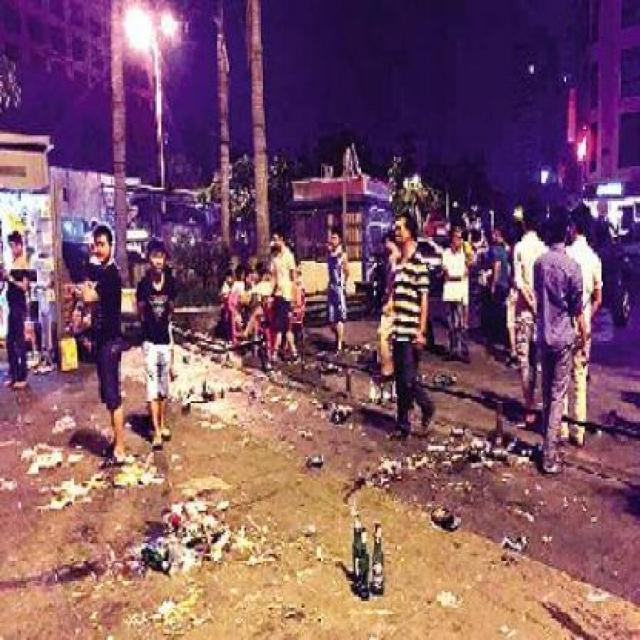garbage: (65, 468, 290, 612), (182, 365, 356, 423), (405, 403, 562, 463), (340, 511, 400, 624)
